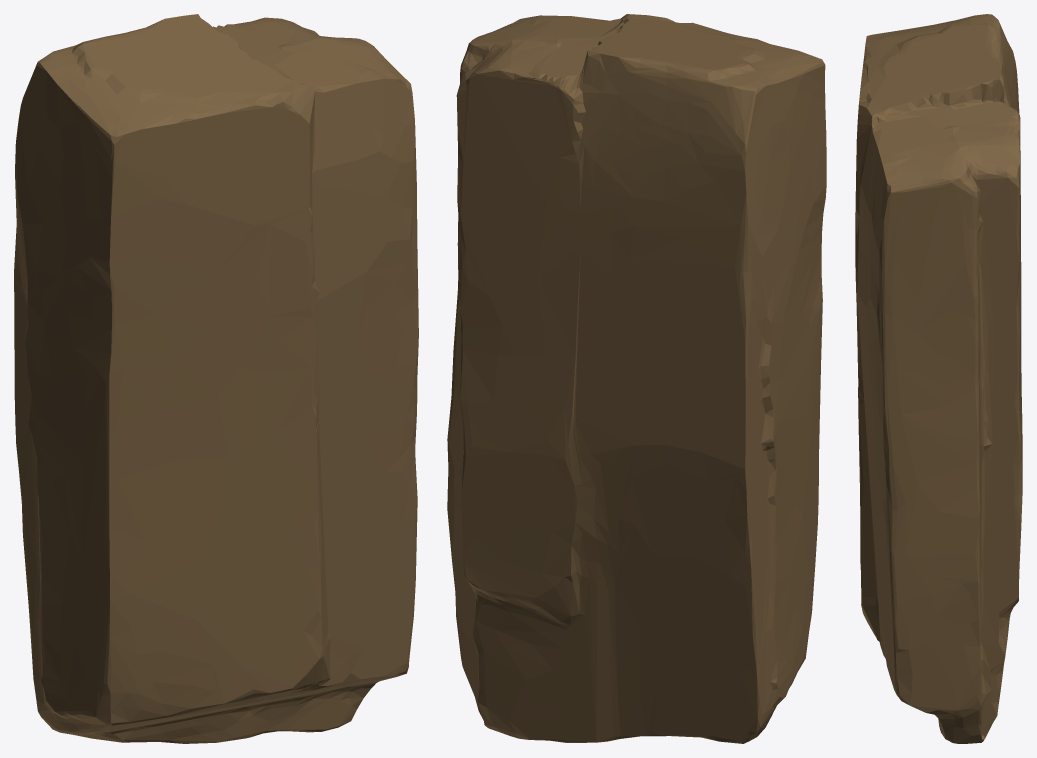
3 views of the same model, side by side, from view 1: azimuth 30°, elevation 25°; view 2: azimuth 150°, elevation 25°; view 3: azimuth 270°, elevation 25° (orthographic). The views are drawn at different scales.
Parts seen in each view (by area): view 1: SM_BM_Cliff_Bottom_02_LOD0; view 2: SM_BM_Cliff_Bottom_02_LOD0; view 3: SM_BM_Cliff_Bottom_02_LOD0.
Boxes of the visible parts, x1,y1,x2,y2 form: SM_BM_Cliff_Bottom_02_LOD0: [14, 14, 418, 743]; SM_BM_Cliff_Bottom_02_LOD0: [447, 14, 826, 743]; SM_BM_Cliff_Bottom_02_LOD0: [855, 14, 1022, 743].
Bounding box in the file's own units: 21.79 × 45.09 × 11.02.
